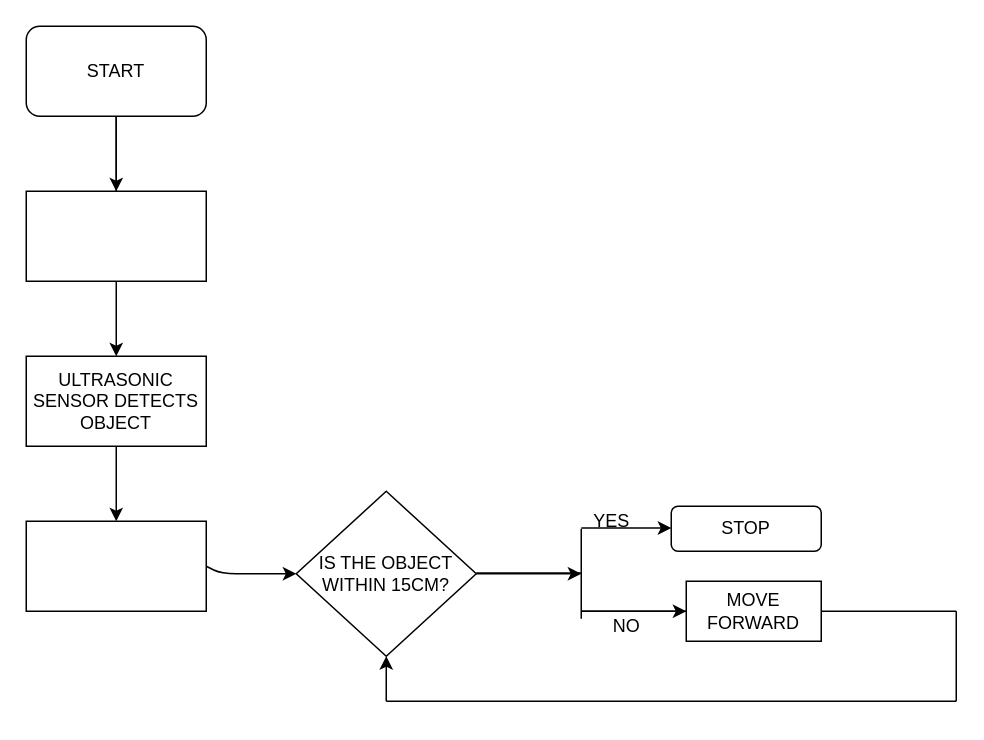
This 984x740 diagram has some shape labels left out. Each missing label, with the box of its shape:
IT CALCULATES THE DISTANCE: (25, 520, 206, 611)
SYSTEM IS TURNED ON: (25, 190, 206, 281)
